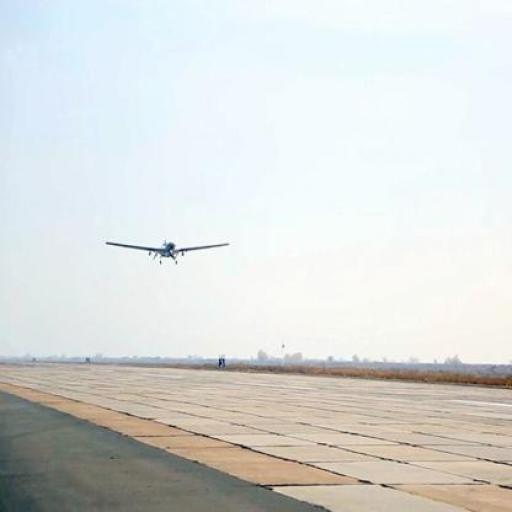aircraft: (98, 225, 234, 276)
